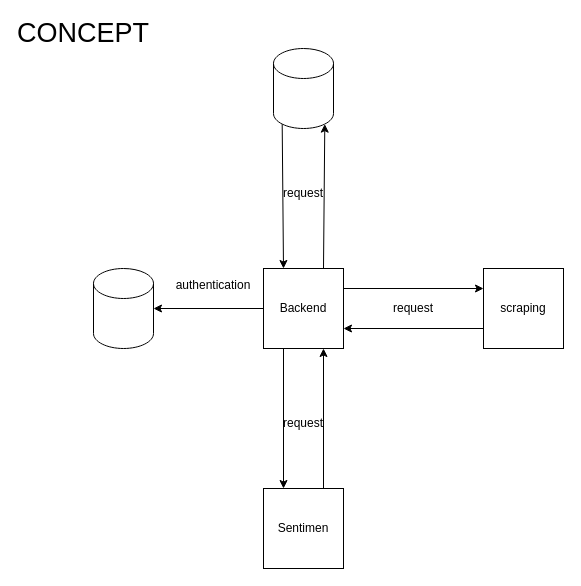
This 581x586 diagram has some shape labels left out. The shapes that lost their labels are listed below. From the top down, each one's centre as x and y in pixels, then its label:
At (303,88): "Elastic".
At (123,308): "DB Django".
